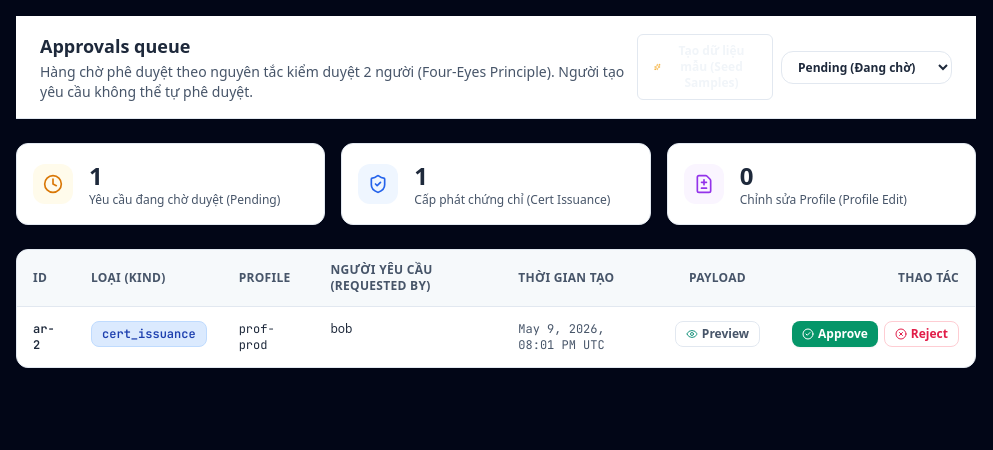
Test: ApprovalsPage › A-5 Empty payload renders the "No payload attached" sentinel
The image size is (993, 450).
Click the button with test id "approvals-preview-toggle-ar-2": (717, 334) [675,321,760,347]
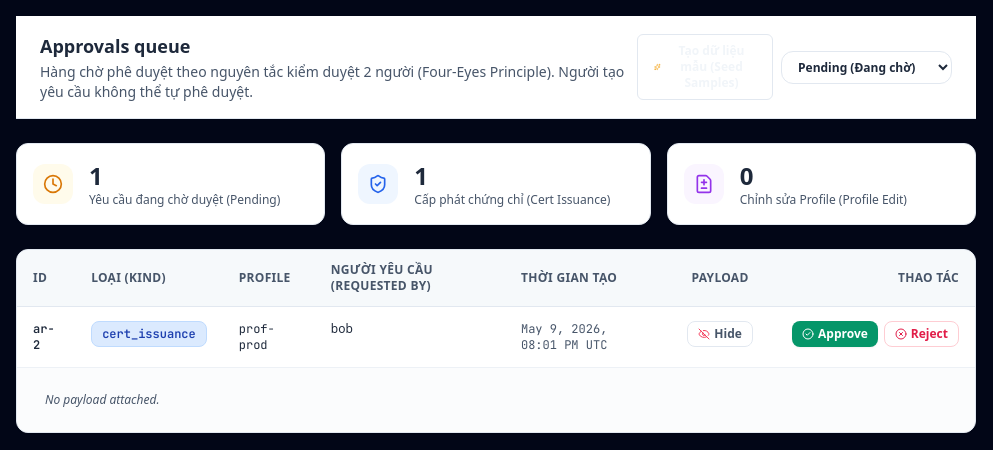
Now the text "No payload attached." is shown, box [45,391,160,408]
